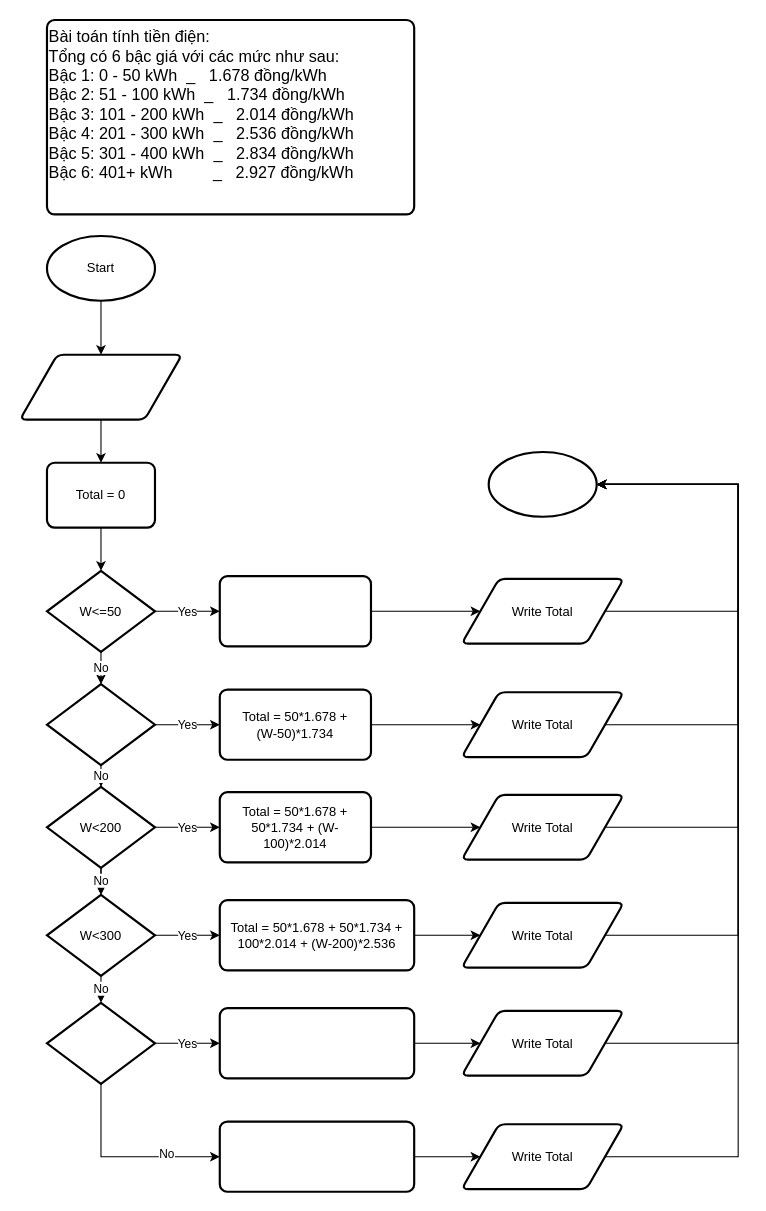
This 766x1211 diagram has some shape labels left out. The shapes that lost their labels are listed below. From the top down, each one's centre as x and y in pixels, then its label:
At [100,386]: "Read W W: năng lượng tiêu thụ điện".
At [542,483]: "End".
At [295,611]: "Total = W*1.678".
At [100,724]: "W<100".
At [100,1042]: "W<400".
At [316,1043]: "Total = 50*1.678 + 50*1.734 + 100*2.014 + 100*2.536 +(W-300)*2.834".
At [316,1156]: "Total = 50*1.678 + 50*1.734 + 100*2.014 + 100*2.536 + 100*2.834 + (W-400)*2.927".
